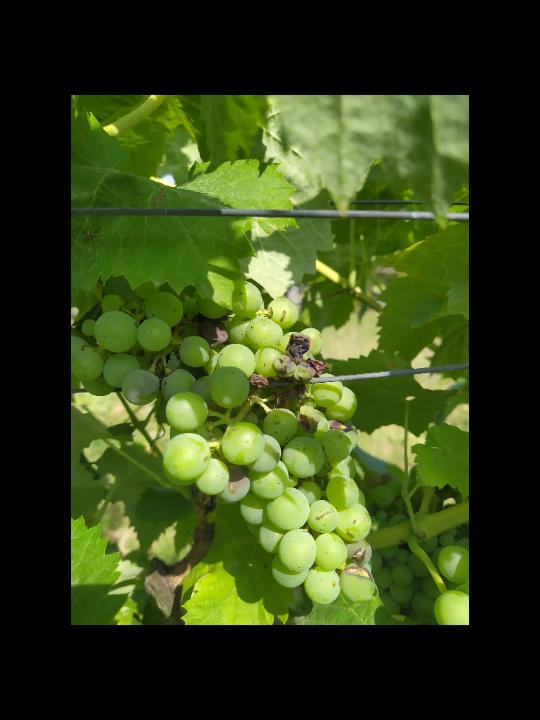grape: (74, 282, 378, 606)
